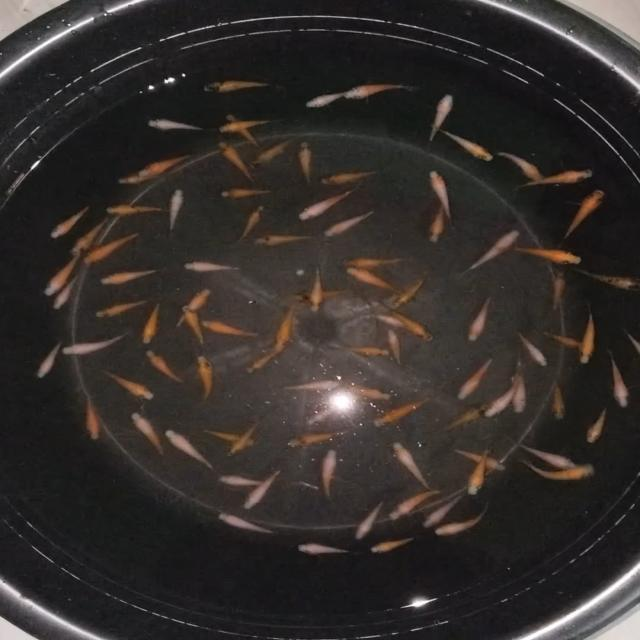nila: (558, 185, 604, 248), (462, 226, 522, 274), (516, 452, 605, 482), (80, 228, 146, 268), (430, 124, 494, 164), (298, 184, 361, 224), (516, 162, 600, 192), (364, 394, 436, 429), (386, 442, 436, 492), (163, 426, 214, 474), (128, 407, 170, 465), (345, 266, 412, 302), (500, 239, 586, 267), (55, 330, 126, 362), (512, 438, 578, 472), (482, 372, 526, 422), (416, 491, 469, 532), (386, 486, 448, 521), (144, 344, 192, 389), (250, 130, 306, 168), (238, 464, 283, 511), (434, 502, 491, 539), (350, 492, 393, 541), (422, 87, 458, 145), (194, 314, 264, 342), (430, 165, 462, 225), (454, 356, 494, 404), (175, 301, 213, 350), (174, 288, 216, 332), (43, 249, 82, 296), (606, 348, 634, 413), (46, 200, 89, 242), (324, 208, 384, 238), (496, 149, 546, 185), (394, 307, 441, 345), (102, 370, 157, 402), (451, 440, 504, 473), (196, 74, 279, 95), (217, 509, 276, 538), (134, 149, 191, 179), (585, 266, 640, 297), (98, 263, 166, 288), (437, 400, 484, 436), (344, 79, 424, 100), (386, 270, 427, 310), (223, 111, 264, 150), (468, 441, 496, 498), (244, 344, 287, 381), (319, 163, 386, 186), (236, 198, 268, 246), (70, 214, 108, 254), (218, 140, 254, 182), (288, 426, 348, 451), (508, 357, 532, 419), (515, 328, 551, 369), (51, 262, 79, 312), (92, 296, 148, 321), (365, 532, 420, 557), (138, 296, 164, 348), (466, 294, 492, 346), (271, 306, 299, 354), (249, 227, 316, 247), (294, 135, 320, 186), (306, 264, 331, 317), (213, 470, 279, 490), (427, 190, 451, 244), (227, 420, 261, 458), (213, 115, 273, 136), (142, 116, 212, 134), (287, 286, 350, 306), (38, 334, 66, 379), (196, 351, 218, 408), (338, 382, 400, 402), (80, 389, 102, 445), (183, 257, 246, 276), (200, 428, 259, 448), (584, 406, 612, 448), (165, 184, 186, 239), (578, 306, 596, 370), (295, 538, 359, 556), (536, 329, 586, 352), (102, 202, 180, 216), (320, 448, 338, 506), (215, 184, 278, 200), (548, 268, 566, 322), (389, 332, 411, 375), (367, 310, 410, 332), (110, 170, 182, 183), (277, 378, 343, 392), (298, 89, 346, 108), (304, 402, 339, 428), (548, 375, 566, 425), (342, 258, 412, 268), (342, 348, 392, 360), (622, 328, 640, 356)
